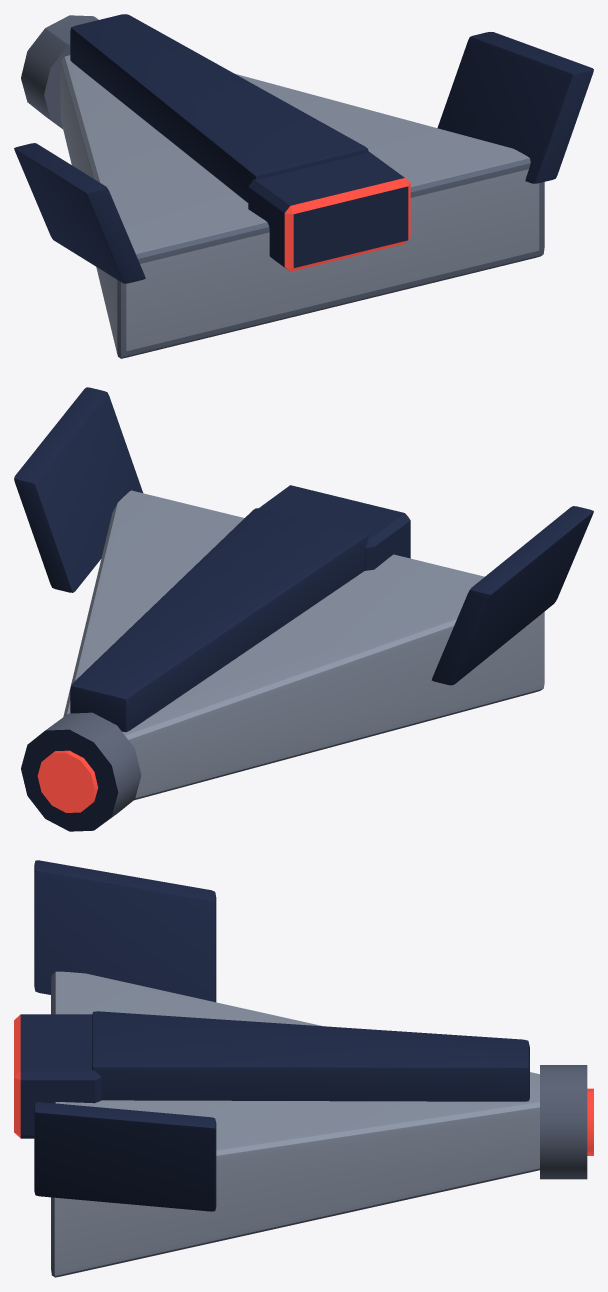
Rendered from enemy_drone.glb.
3 renders of one model, top to bottom at view 1: azimuth 30°, elevation 25°; view 2: azimuth 150°, elevation 25°; view 3: azimuth 270°, elevation 25°, orthographic.
Visible parts, largest first — view 1: enemy_drone; view 2: enemy_drone; view 3: enemy_drone.
Part boxes in pixels (x1,y1,x2,y2): enemy_drone: (14, 14, 593, 358); enemy_drone: (14, 387, 593, 831); enemy_drone: (14, 860, 593, 1277).
Size of the model in its own units: 1.77 by 0.6159 by 1.72.
Materials: 2 (2 with a texture image).
